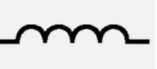inductor: (7, 17, 135, 52)
